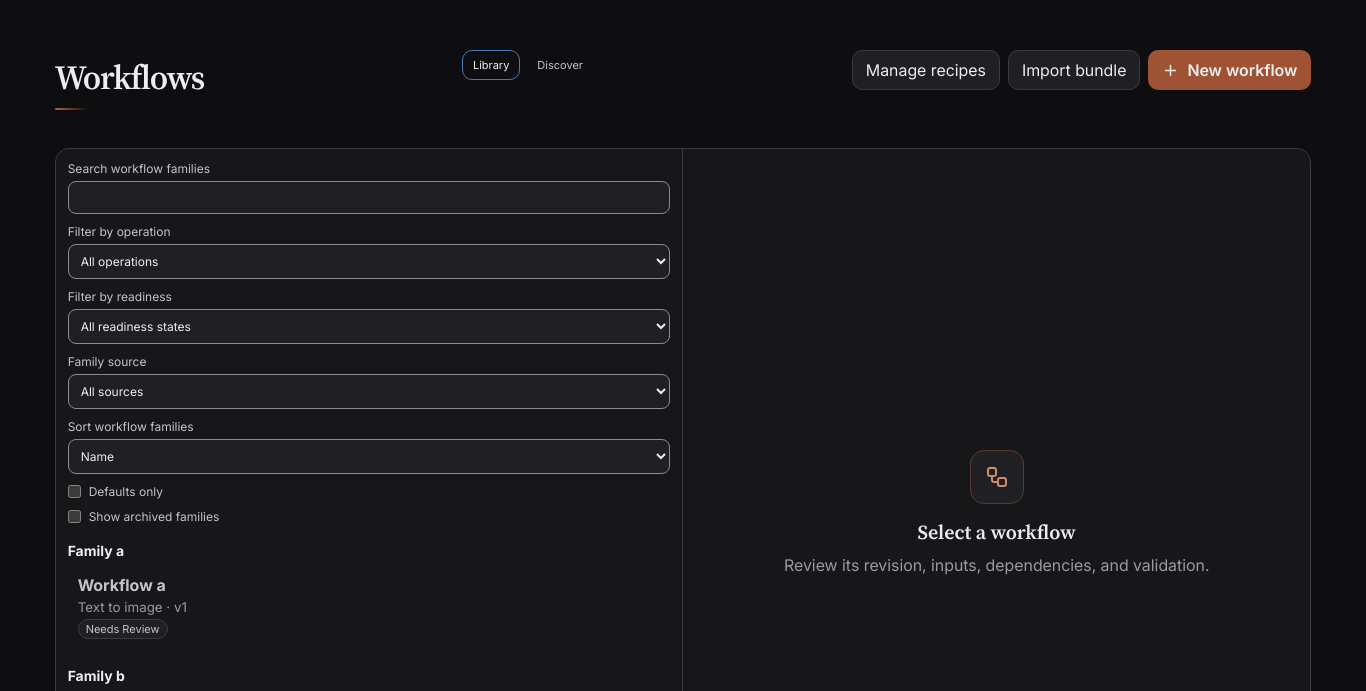
Scenario: browsing workflow families › filters the family source without guessing the origin of ungrouped definitions
This screenshot has width=1366, height=691.
expect the heading "Family a" is shown: met, box [68, 542, 124, 559]
Select "From model profiles" in the dropdown labelled "Family source" at (369, 392), box [68, 374, 670, 409]
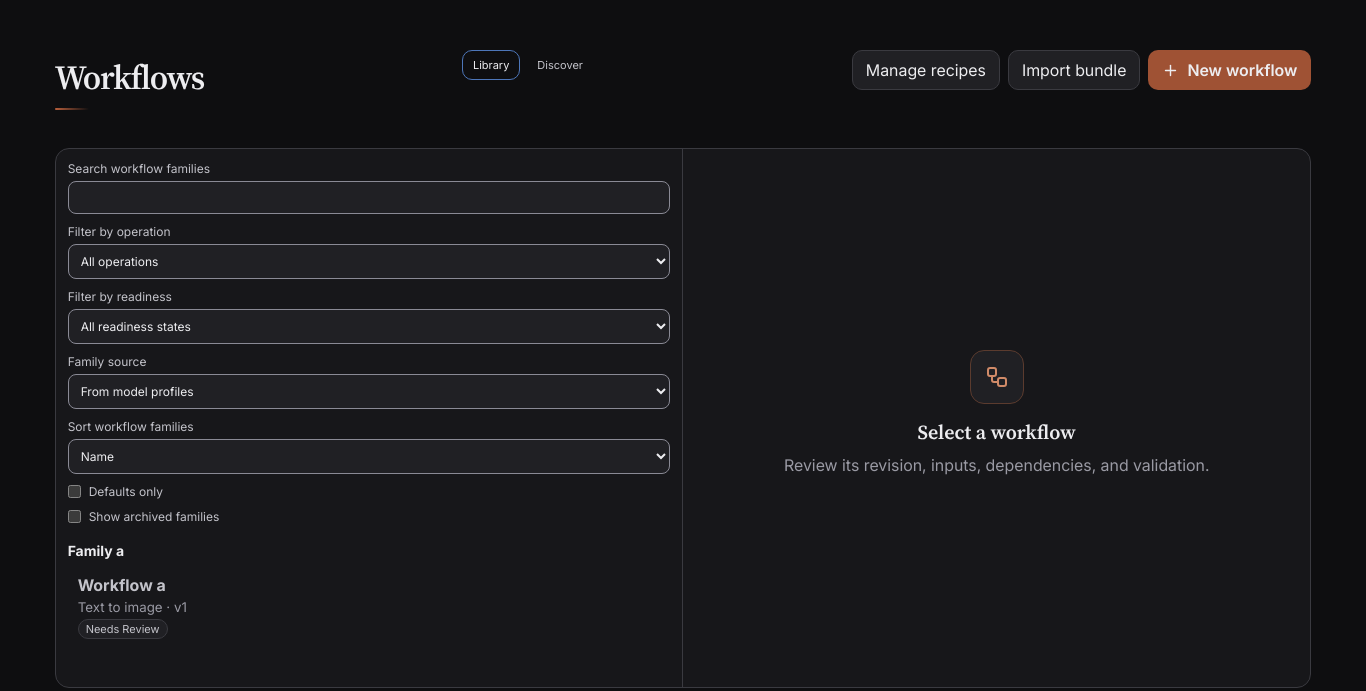
expect the heading "Family a" is shown: met, box [68, 542, 124, 559]
expect the heading "Family b" is gone: met
Select "Other workflow families" in the dropdown labelled "Family source" at (369, 392), box [68, 374, 670, 409]
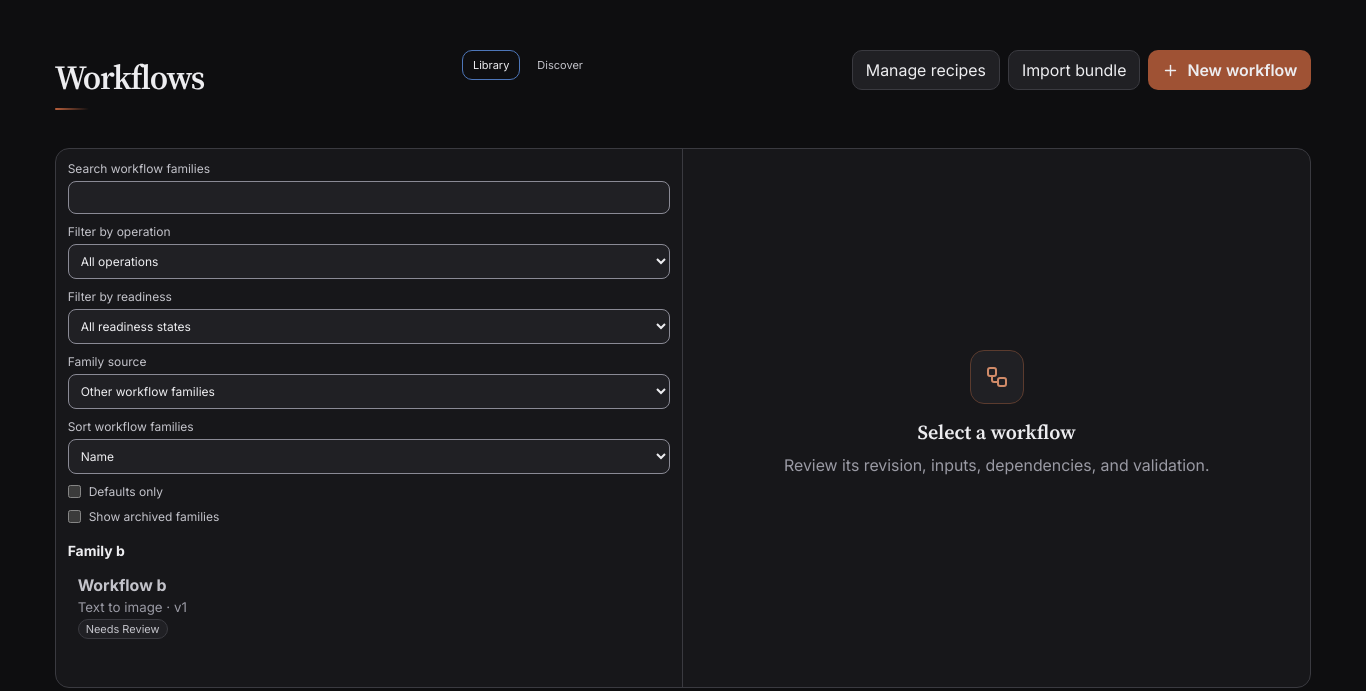
expect the heading "Ungrouped workflows" is not shown: met
expect the heading "Family a" is gone: met
expect the heading "Family b" is shown: met, box [68, 542, 125, 559]
Select "All sources" in the dropdown labelled "Family source" at (369, 392), box [68, 374, 670, 409]
(page scrolled)
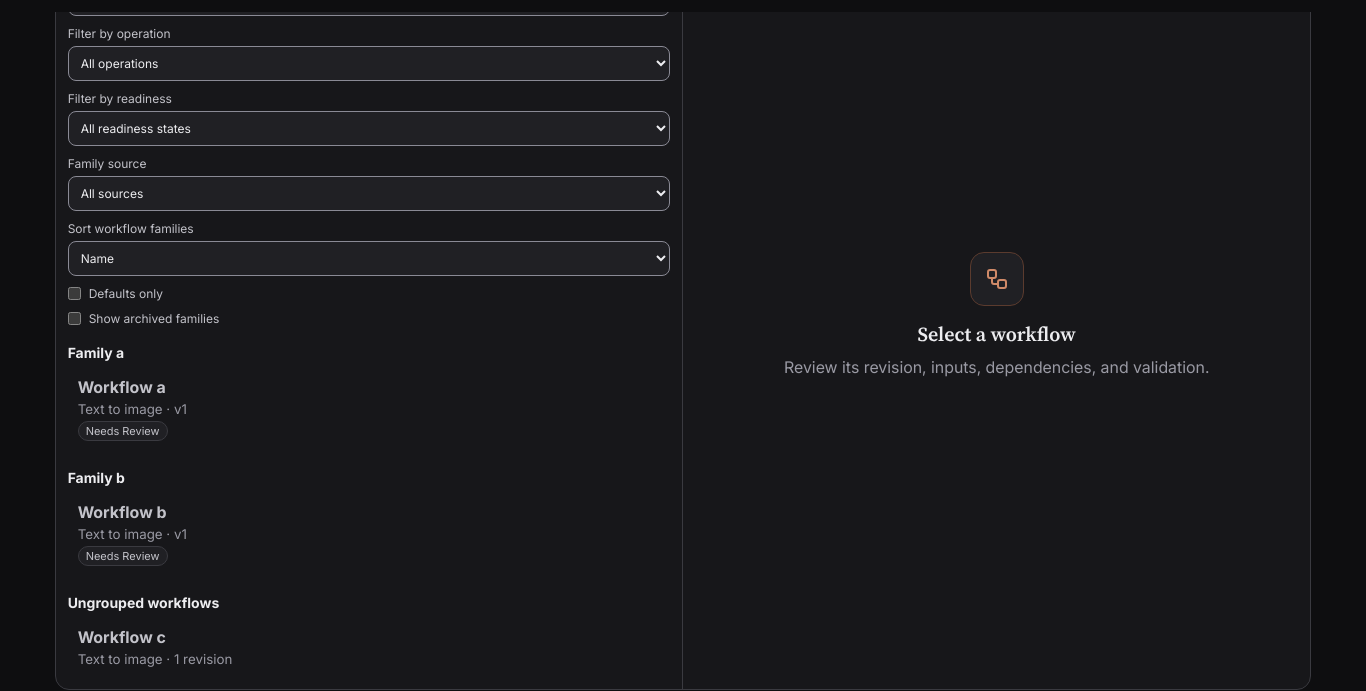
expect the heading "Ungrouped workflows" is shown: met, box [68, 594, 219, 611]
Click the text "Workflow c" at (122, 637), box [78, 627, 166, 647]
(page scrolled)
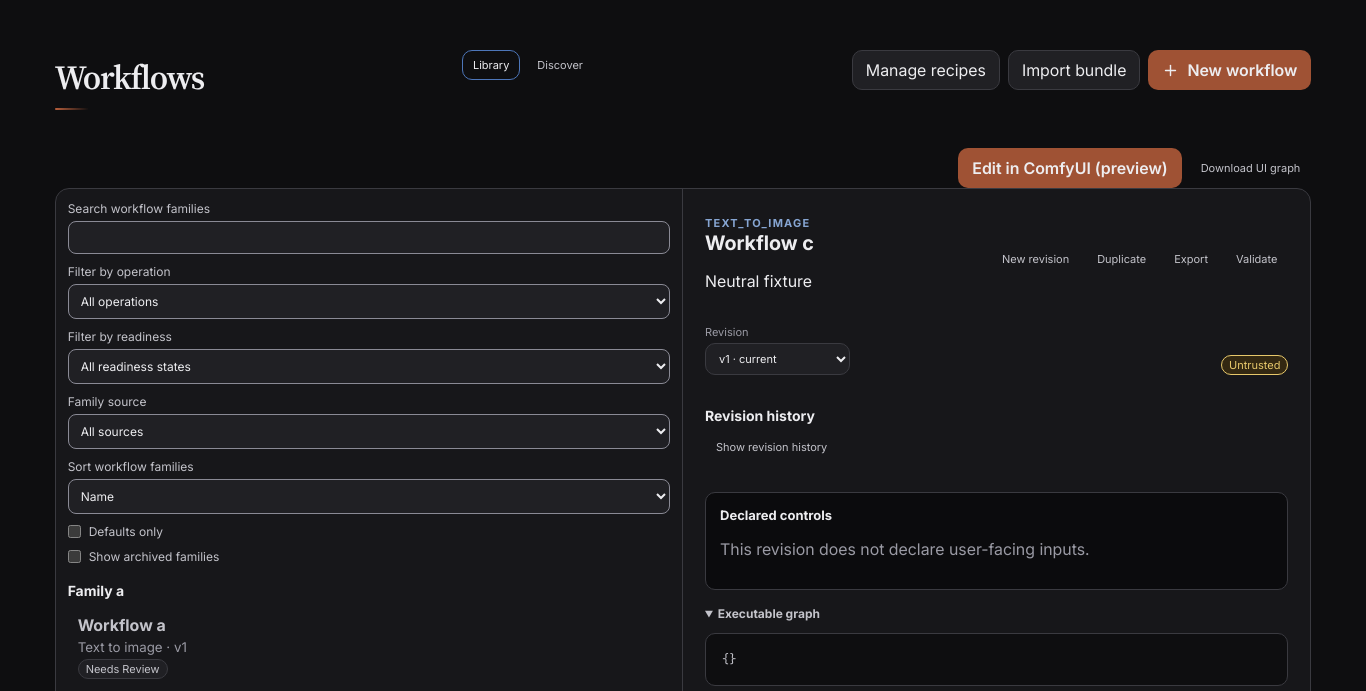
expect the button "New revision" is shown: met, box [991, 244, 1080, 274]
